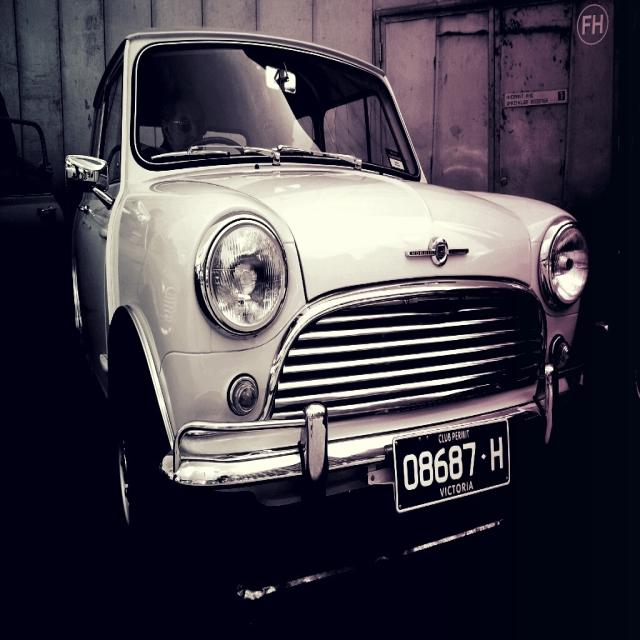car: (55, 22, 600, 611)
